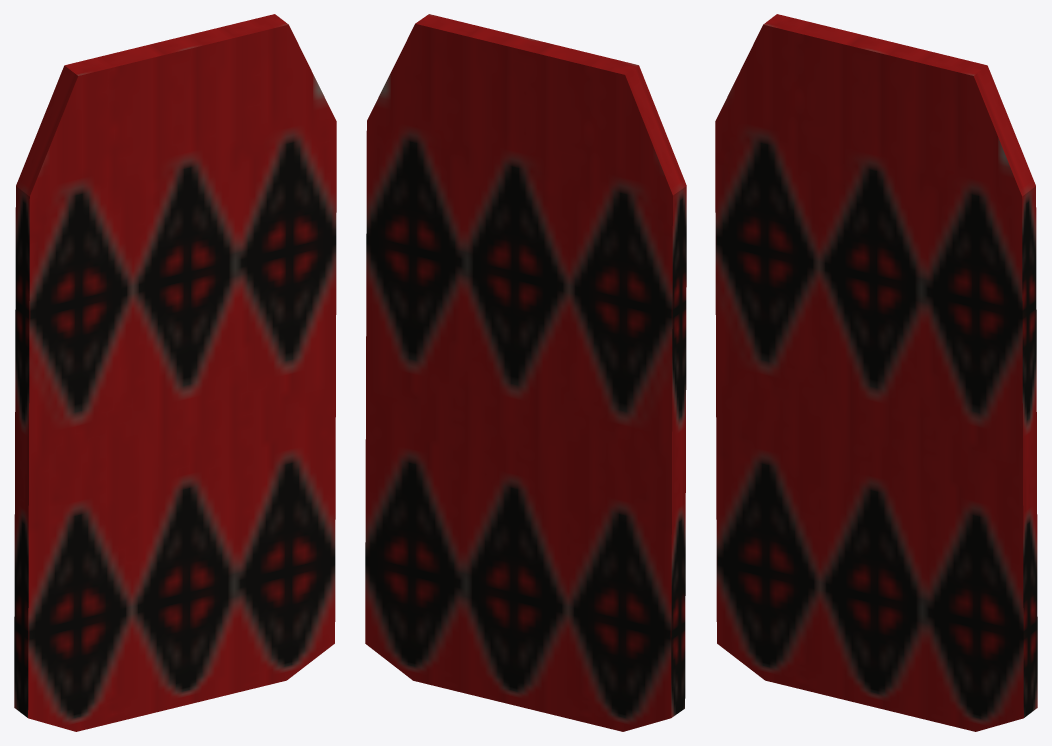
File: xion_s_2.dae
The picture shows the model from 3 angles, left to right: view 1: azimuth 30°, elevation 25°; view 2: azimuth 150°, elevation 25°; view 3: azimuth 330°, elevation 25°; orthographic projection.
Visible parts, largest first — view 1: shield_b; view 2: shield_b; view 3: shield_b.
Boxes of the visible parts, x1,y1,x2,y2 form: shield_b: (14,14,336,731); shield_b: (365,14,686,731); shield_b: (715,14,1037,731).
Bounding box in the file's own units: 1.03 × 0.093 × 2.11.
